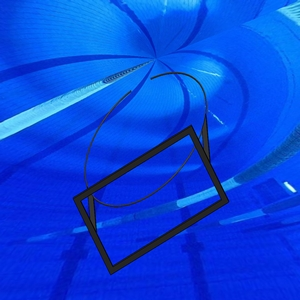circle: (72, 71, 231, 277)
